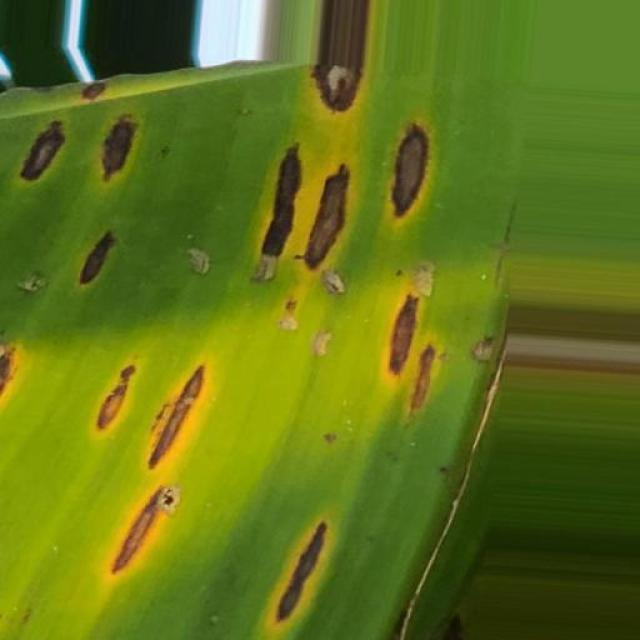Early_rust: (0, 45, 501, 623)
